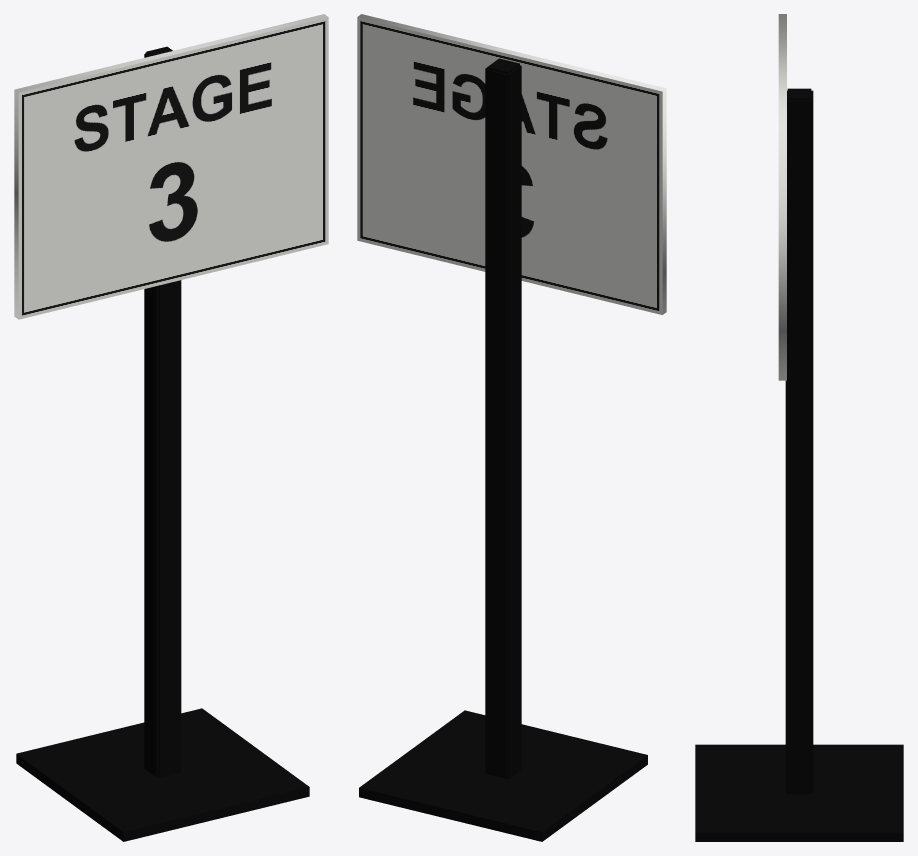
Rendered from obj_stage_sign_3.glb.
The picture shows the model from 3 angles, left to right: view 1: azimuth 30°, elevation 25°; view 2: azimuth 150°, elevation 25°; view 3: azimuth 270°, elevation 25°; orthographic projection. The views are drawn at different scales.
Parts seen in each view (by area): view 1: sign, stage_sign_3_body; view 2: sign, stage_sign_3_body; view 3: stage_sign_3_body, sign.
Part boxes in pixels (<box>): sign: <box>14,14,328,319</box>; stage_sign_3_body: <box>16,46,309,841</box>; sign: <box>357,14,666,314</box>; stage_sign_3_body: <box>359,58,647,841</box>; stage_sign_3_body: <box>695,88,903,841</box>; sign: <box>778,14,786,380</box>.
Bounding box in the file's own units: 0.5 × 1.13 × 0.3.
Materials: 3 (2 with a texture image).
